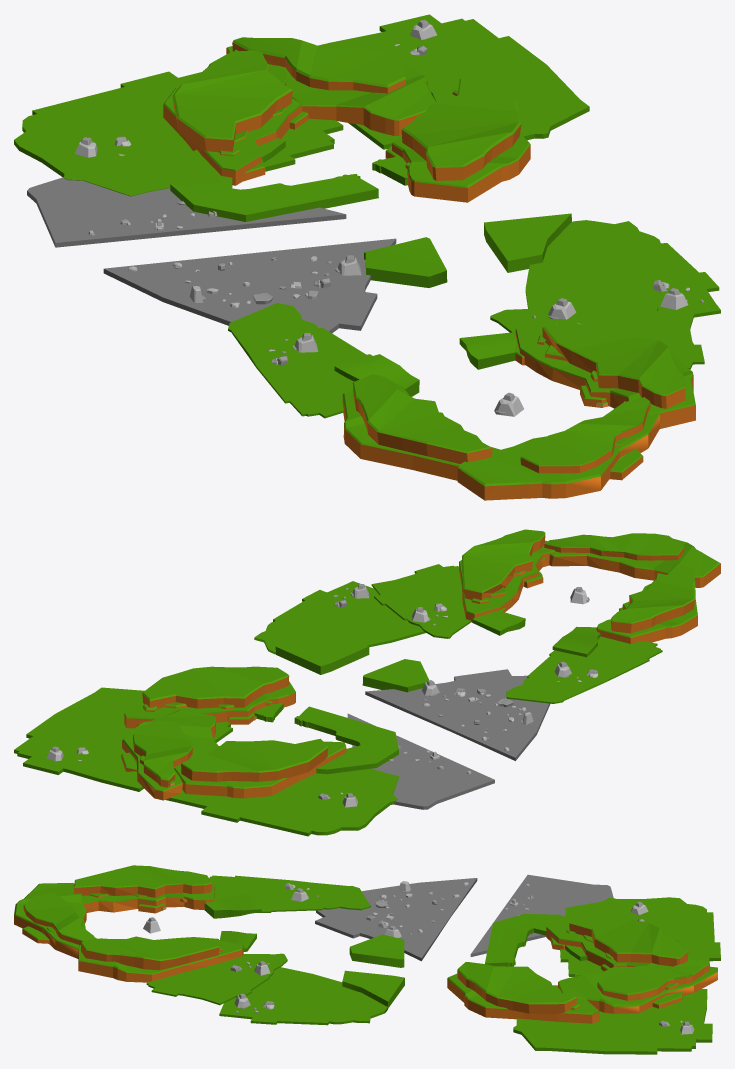
The model's file is Orchard.fbx.
3 views of the same model, one above another, from view 1: azimuth 30°, elevation 25°; view 2: azimuth 150°, elevation 25°; view 3: azimuth 270°, elevation 25° (orthographic). The views are drawn at different scales.
Parts seen in each view (by area): view 1: SM_Grass.007, SM_Grass.005, SM_Grass.004, SM_Grass.011, SM_Grass.001, SM_Grass.006, SM_Grass.003, SM_Grass.009, SM_Grass.010, SM_Grass.002, SM_Grass.008, SM_Grass.013 (+2 smaller); view 2: SM_Grass.007, SM_Grass.005, SM_Grass.004, SM_Grass.006, SM_Grass.003, SM_Grass.001, SM_Grass.011, SM_Grass.009, SM_Grass.010, SM_Grass.002, SM_Grass.008, SM_Grass.013 (+2 smaller); view 3: SM_Grass.007, SM_Grass.006, SM_Grass.005, SM_Grass.001, SM_Grass.011, SM_Grass.010, SM_Grass.002, SM_Grass.008, SM_Grass.003, SM_Grass.004, SM_Grass.009, SM_Grass.013 (+2 smaller).
Part boxes in pixels (x1,y1,x2,y2): SM_Grass.007: (27, 177, 396, 333); SM_Grass.005: (170, 138, 571, 396); SM_Grass.004: (14, 71, 343, 196); SM_Grass.011: (525, 220, 720, 317); SM_Grass.001: (385, 76, 530, 202); SM_Grass.006: (318, 14, 589, 149); SM_Grass.003: (163, 50, 308, 185); SM_Grass.009: (457, 397, 659, 500); SM_Grass.010: (515, 321, 695, 428); SM_Grass.002: (226, 37, 436, 135); SM_Grass.008: (342, 374, 500, 480); SM_Grass.013: (228, 303, 372, 418); SM_Grass.007: (347, 669, 550, 809); SM_Grass.005: (253, 611, 600, 774); SM_Grass.004: (165, 746, 399, 836); SM_Grass.006: (14, 687, 232, 791); SM_Grass.003: (174, 738, 346, 798); SM_Grass.001: (124, 666, 295, 728); SM_Grass.011: (254, 581, 425, 654); SM_Grass.009: (544, 533, 720, 587); SM_Grass.010: (459, 529, 553, 622); SM_Grass.002: (121, 710, 218, 800); SM_Grass.008: (596, 563, 697, 643); SM_Grass.013: (506, 636, 662, 703); SM_Grass.007: (315, 874, 613, 961); SM_Grass.006: (513, 985, 712, 1054); SM_Grass.005: (204, 894, 587, 1008); SM_Grass.001: (447, 962, 599, 1023); SM_Grass.011: (219, 967, 387, 1025); SM_Grass.010: (78, 936, 243, 982); SM_Grass.002: (558, 959, 717, 1013); SM_Grass.008: (74, 865, 214, 913); SM_Grass.003: (546, 916, 693, 970); SM_Grass.004: (560, 897, 720, 976); SM_Grass.009: (14, 883, 96, 958); SM_Grass.013: (209, 875, 370, 912).
Bounding box in the file's own units: 23490 × 1544 × 39613.
